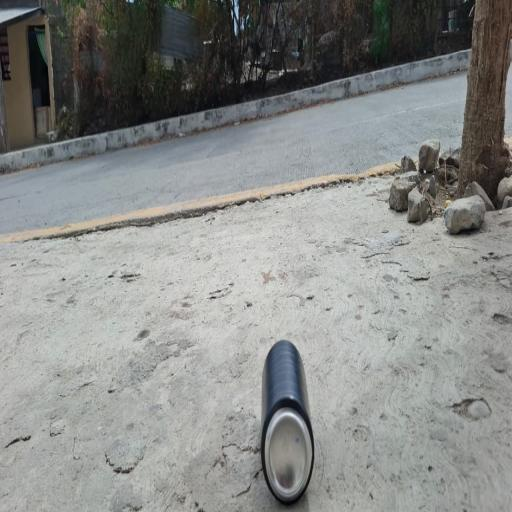LATA: (252, 333, 326, 511)
